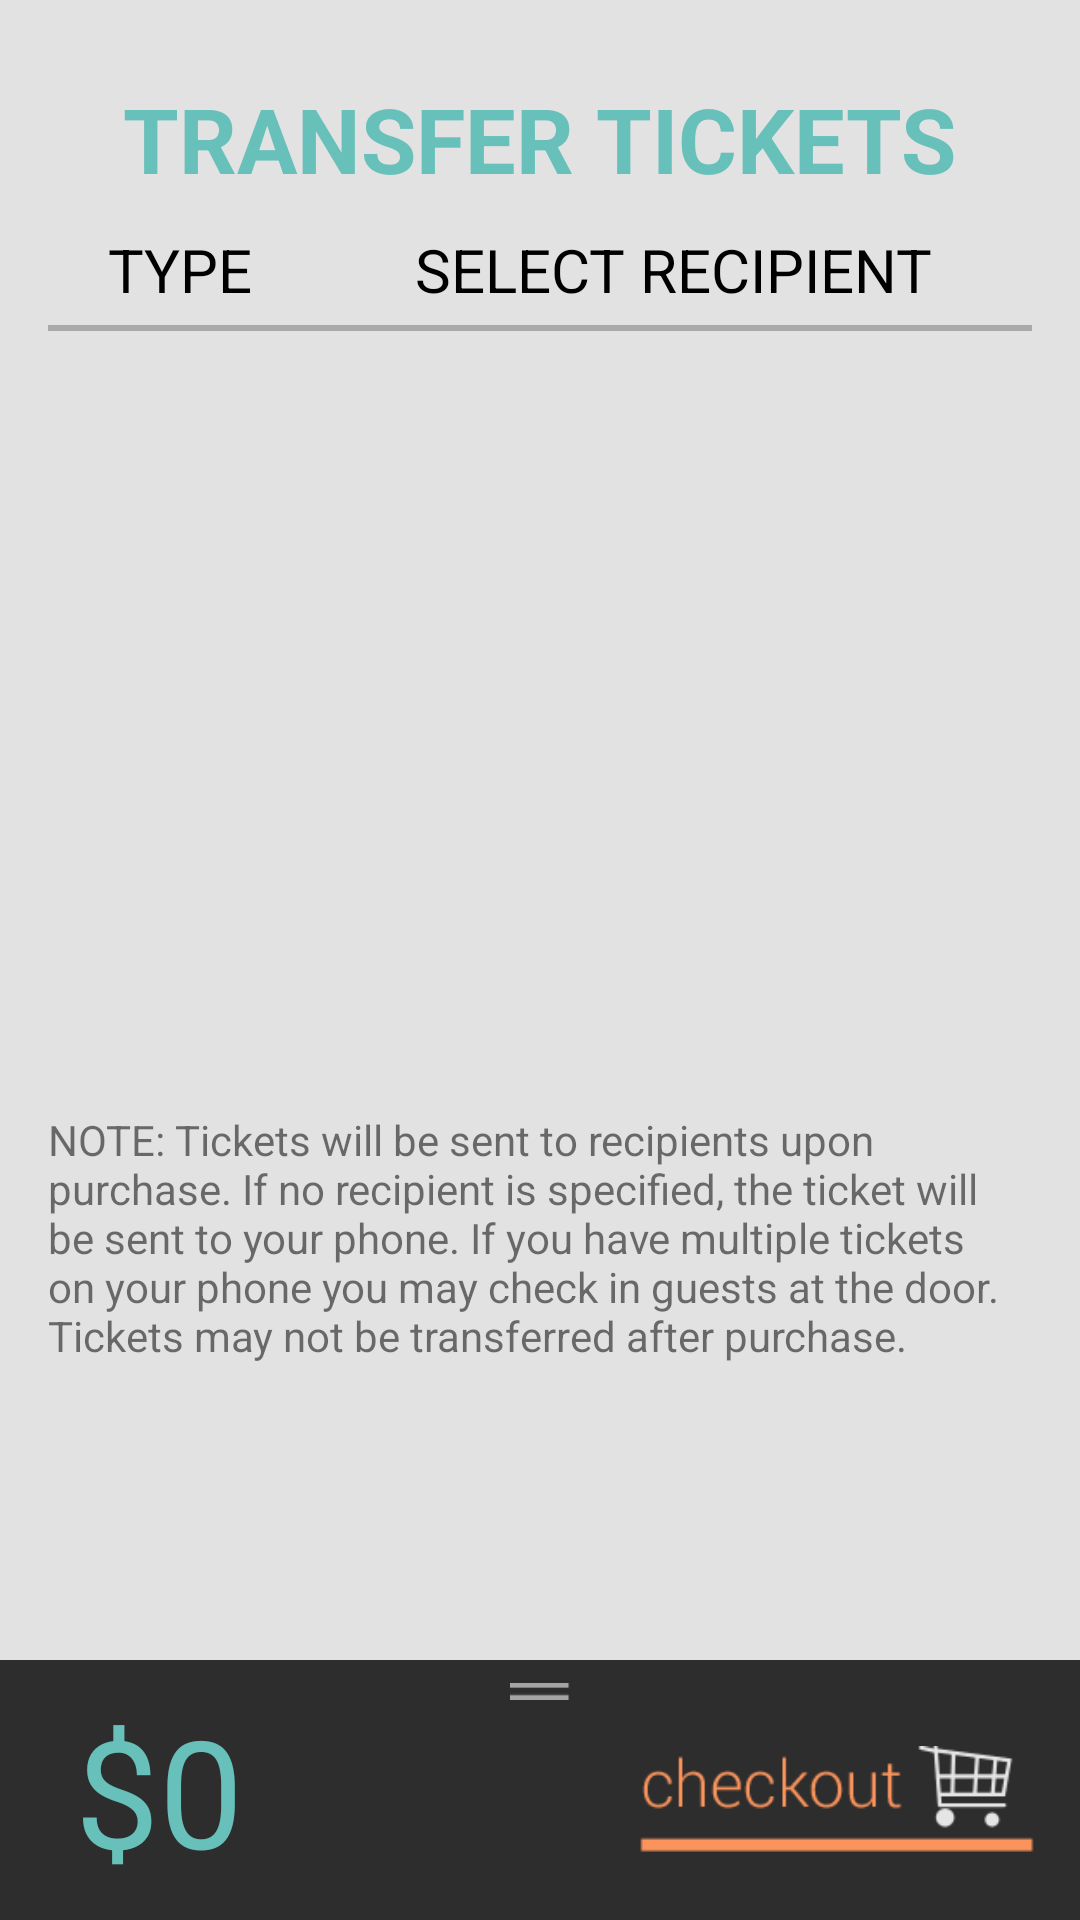

Named icons in this screenshot (1080*1920) and their bounding boxes, (x1, y1, x2, y2):
slidebar: (510, 1683, 569, 1700)
